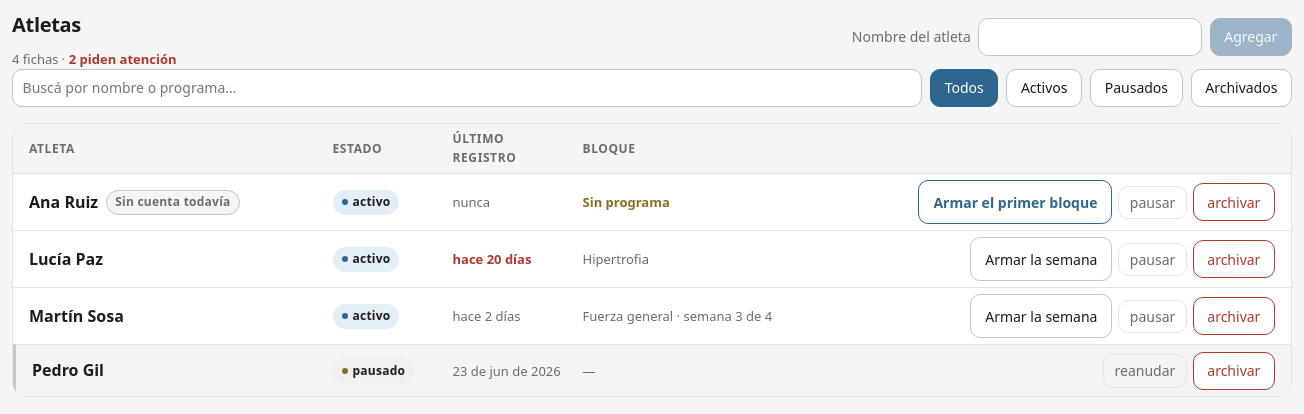
Scenario: buscar y filtrar › sin coincidencias no dice que no cargaste ninguno
Expected: the link "Martín Sosa" is shown, [29, 304, 124, 329]
Type "zzzz" into the search field named "Buscar atletas" at (467, 88), box [12, 69, 922, 107]
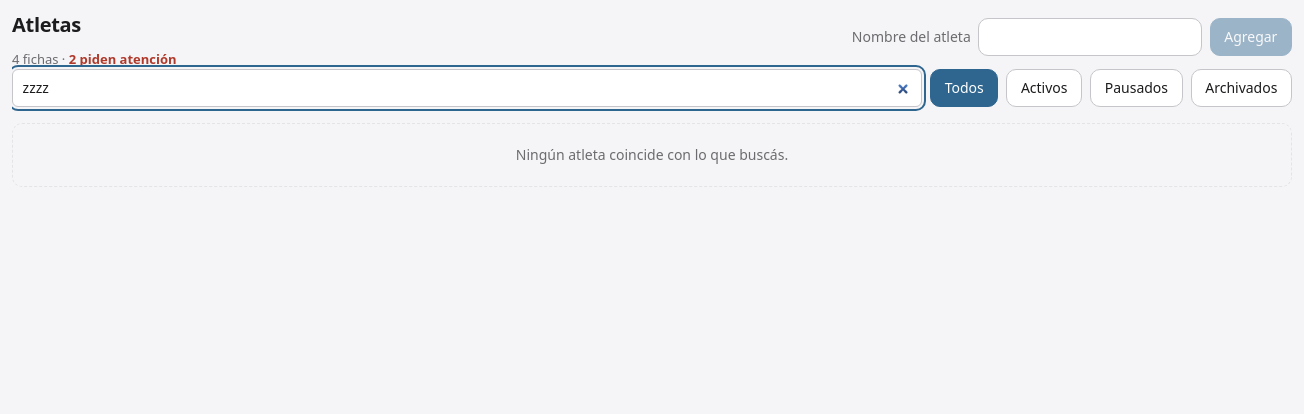
Expected: the text "Ningún atleta coincide con lo que buscás." is shown, [12, 123, 1292, 187]
